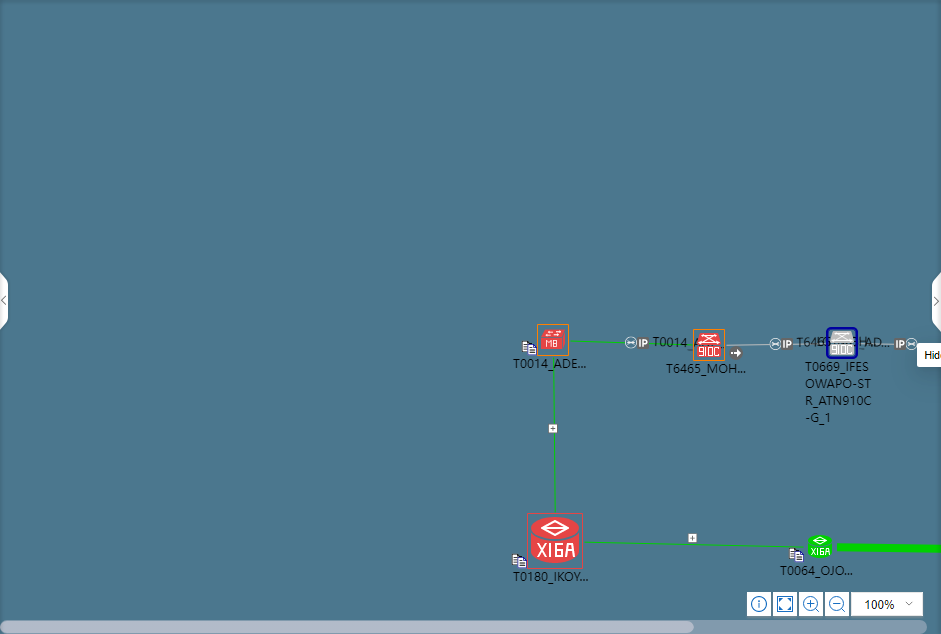ATN_Gray: (829, 331, 854, 356)
ATN_Red: (695, 333, 722, 358)
Link_Gray: (726, 341, 826, 347), (860, 341, 917, 348)
Link_Green: (586, 540, 805, 552), (836, 542, 941, 555), (570, 339, 694, 350), (551, 364, 557, 512)
Router_Green: (807, 536, 831, 558)
Router_Red: (530, 518, 579, 565)
Switch_Red: (538, 326, 566, 351)
